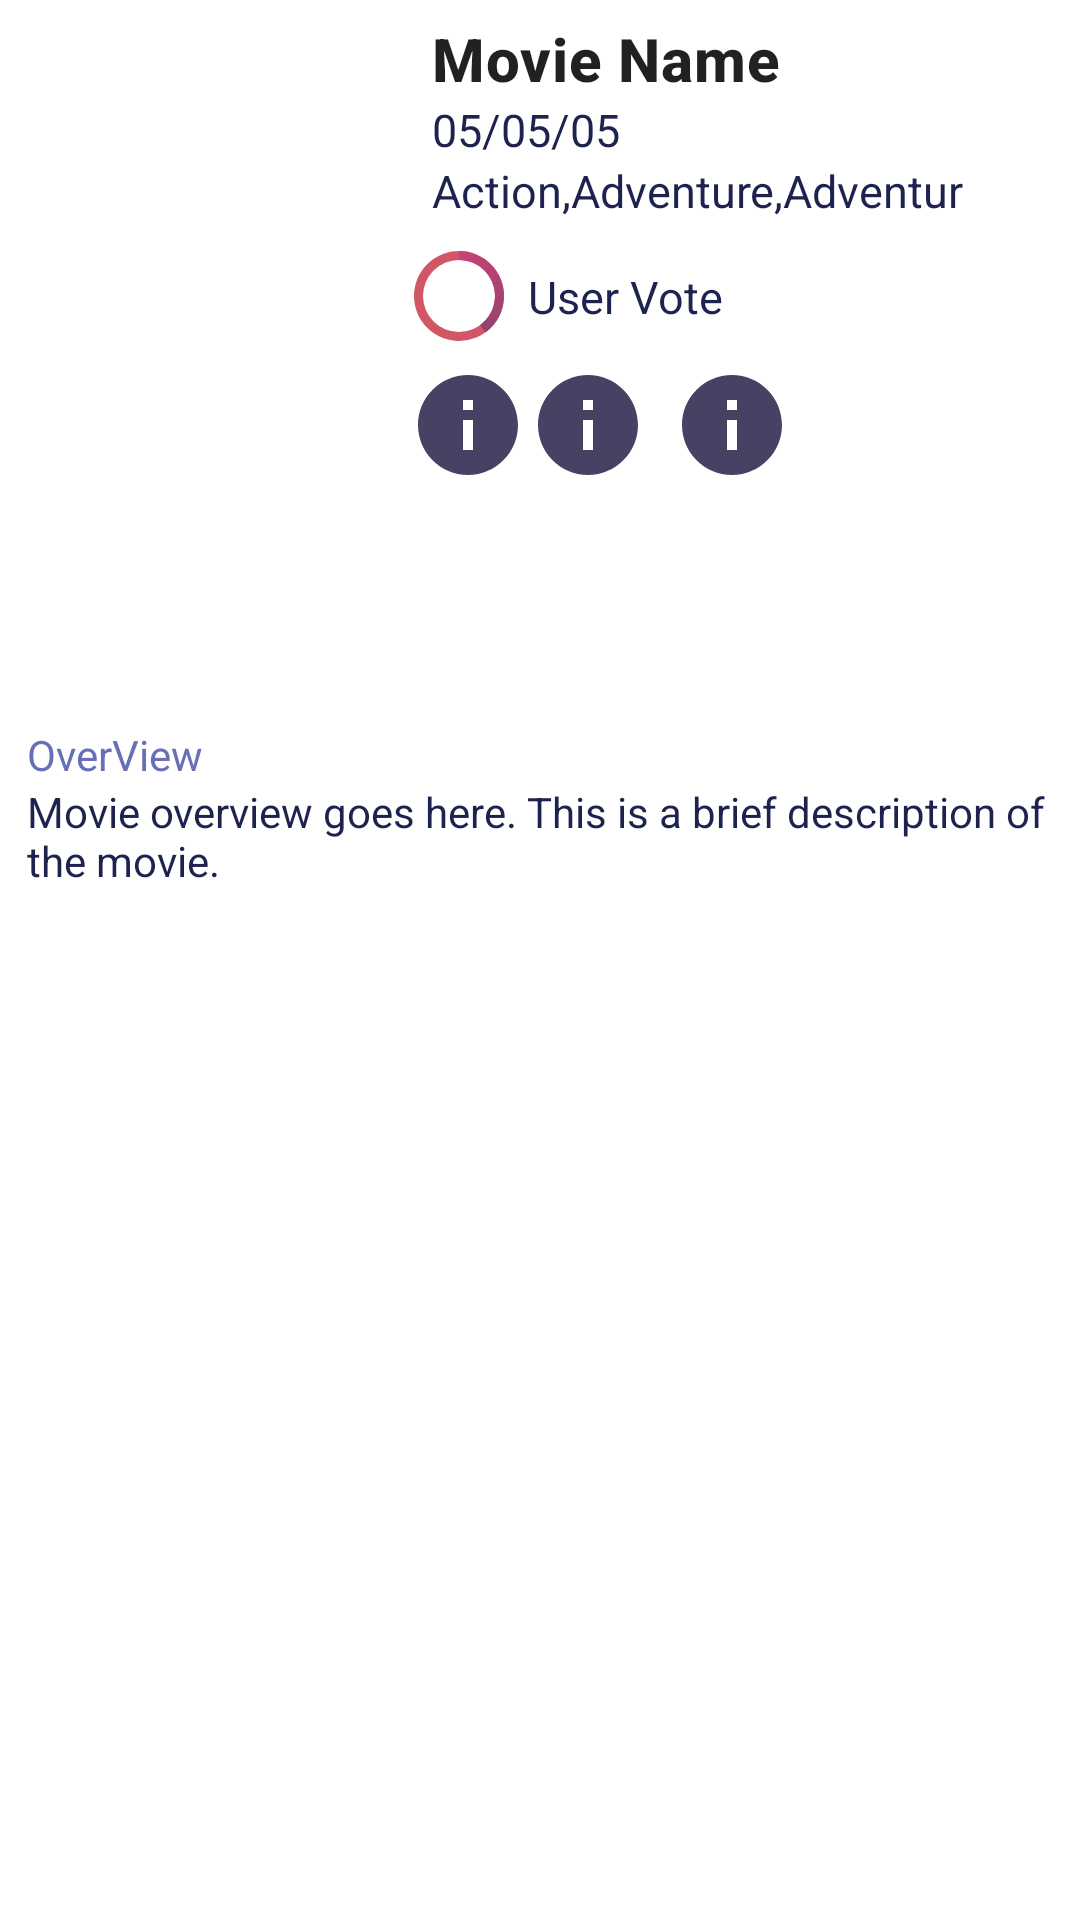

Where to tap for icons on this 1080px x 1920px app screen, as (x=x, y=y):
about us: (x=468, y=425), (x=588, y=425), (x=732, y=425)
